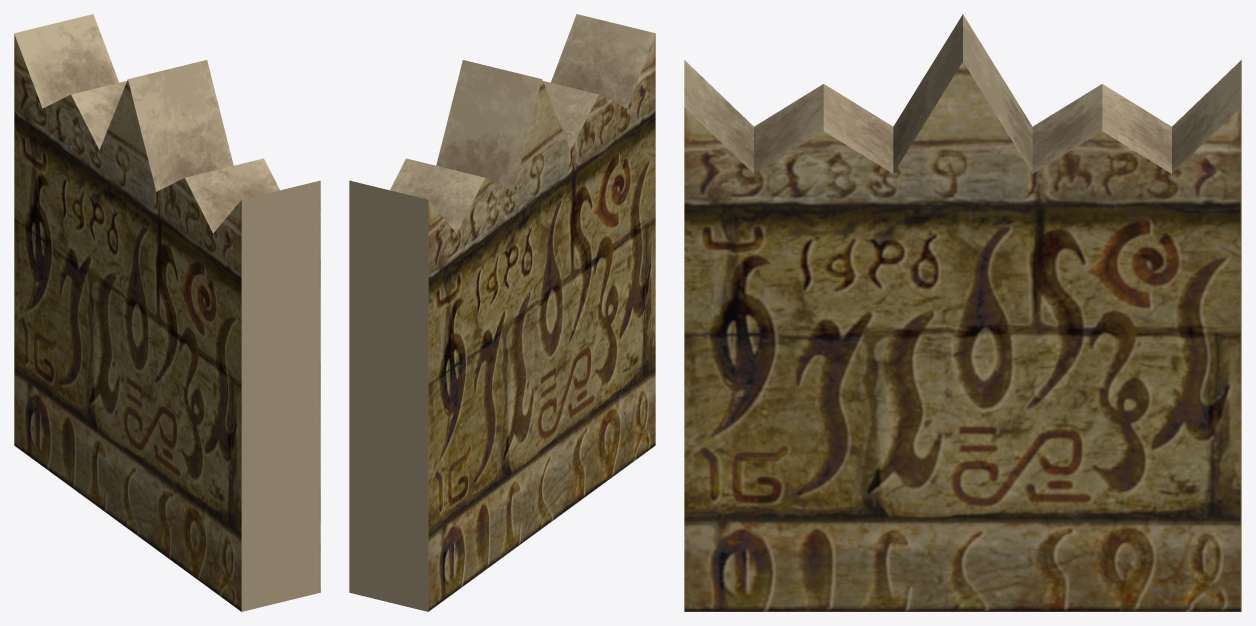
The model's file is Wall_model.fbx.
The picture shows the model from 3 angles, left to right: view 1: azimuth 30°, elevation 25°; view 2: azimuth 150°, elevation 25°; view 3: azimuth 270°, elevation 25°; orthographic projection. The views are drawn at different scales.
Visible parts, largest first — view 1: Wall; view 2: Wall; view 3: Wall.
Boxes of the visible parts, x1,y1,x2,y2 form: Wall: (14,14,320,611); Wall: (349,14,655,611); Wall: (684,14,1241,611).
Bounding box in the file's own units: 40.2 × 218 × 200.
